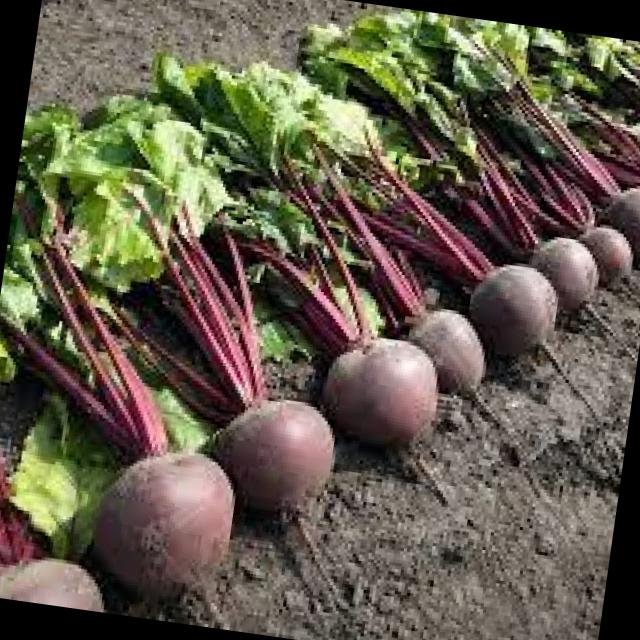beet: (68, 431, 246, 607), (306, 318, 456, 483), (194, 382, 343, 531), (451, 246, 572, 378), (394, 300, 495, 414), (525, 225, 612, 323), (0, 534, 108, 612), (582, 212, 640, 299), (599, 178, 640, 259)
